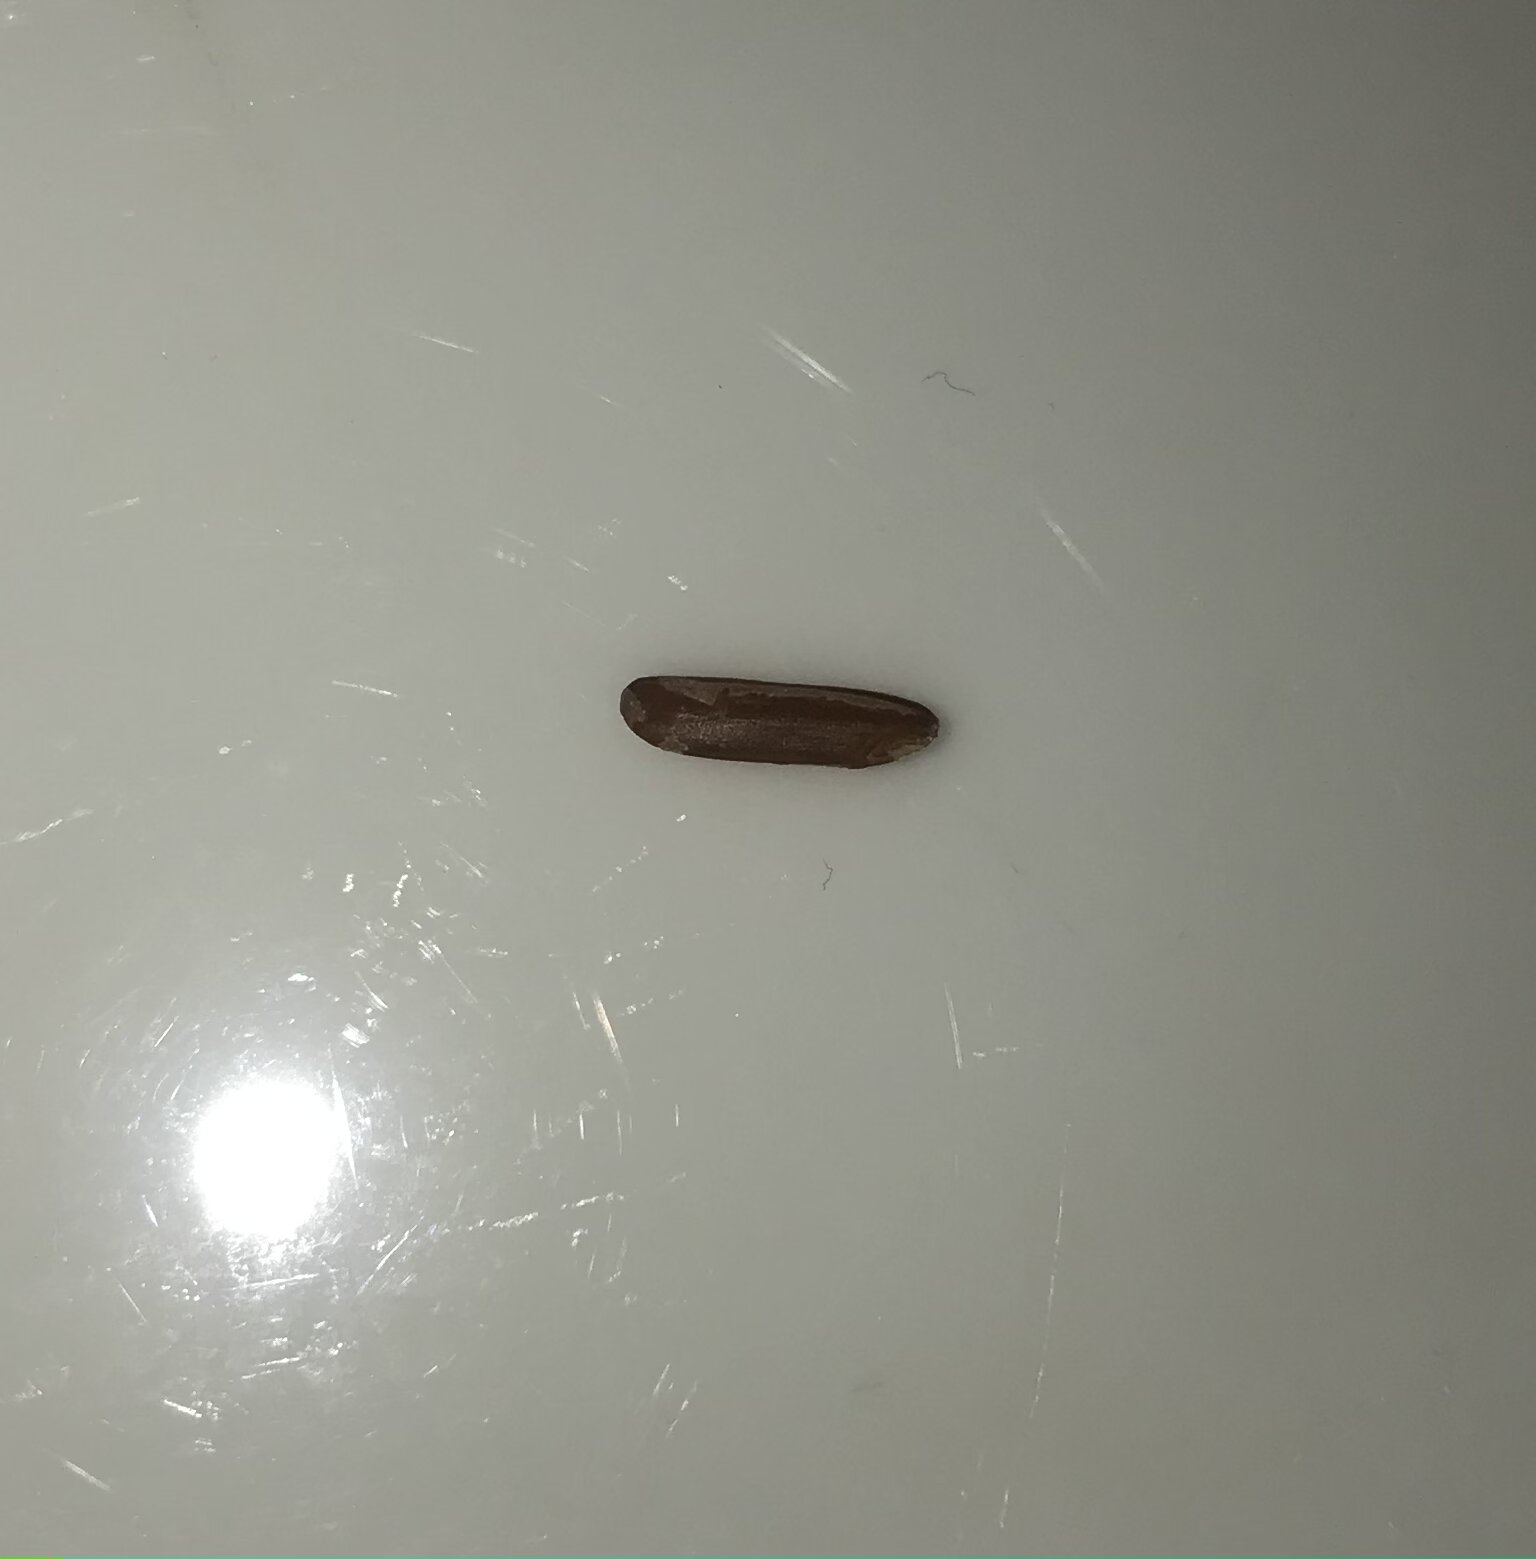Gao Huyet Rong: (612, 657, 962, 794)
